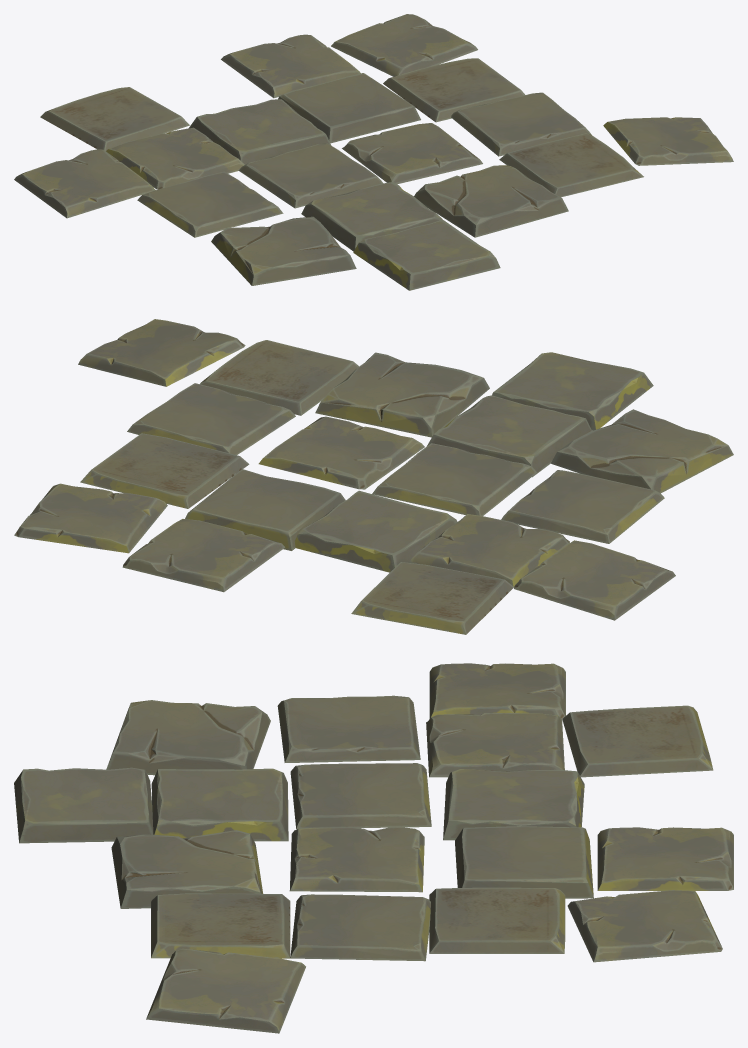
The model's file is Rock.fbx.
The picture shows the model from 3 angles, top to bottom: view 1: azimuth 30°, elevation 25°; view 2: azimuth 150°, elevation 25°; view 3: azimuth 270°, elevation 25°; orthographic projection. The views are drawn at different scales.
Visible parts, largest first — view 1: raisedSlab3, raisedSlab3__1_, raisedSlab4__2_, raisedSlab5, raisedSlab1__5_, raisedSlab2__1_, raisedSlab6__1_, raisedSlab6__2_, raisedSlab4, raisedSlab2, raisedSlab1, raisedSlab1__1_ (+6 smaller); view 2: raisedSlab3, raisedSlab3__1_, raisedSlab4, raisedSlab6__1_, raisedSlab1__5_, raisedSlab6, raisedSlab2, raisedSlab2__1_, raisedSlab1, raisedSlab1__4_, raisedSlab4__2_, raisedSlab1__1_ (+6 smaller); view 3: raisedSlab1__3_, raisedSlab4__2_, raisedSlab3__1_, raisedSlab4__1_, raisedSlab3, raisedSlab6__1_, raisedSlab6, raisedSlab2__1_, raisedSlab2__2_, raisedSlab2, raisedSlab1__4_, raisedSlab5 (+6 smaller).
Boxes of the visible parts, bbox=[...] form: raisedSlab3: bbox=[414, 165, 568, 237]; raisedSlab3__1_: bbox=[211, 216, 356, 285]; raisedSlab4__2_: bbox=[353, 220, 500, 290]; raisedSlab5: bbox=[278, 73, 420, 143]; raisedSlab1__5_: bbox=[14, 149, 155, 218]; raisedSlab2__1_: bbox=[137, 171, 283, 237]; raisedSlab6__1_: bbox=[40, 87, 189, 150]; raisedSlab6__2_: bbox=[499, 133, 643, 197]; raisedSlab4: bbox=[189, 99, 331, 164]; raisedSlab2: bbox=[238, 143, 382, 208]; raisedSlab1: bbox=[342, 123, 482, 184]; raisedSlab1__1_: bbox=[331, 14, 477, 76]; raisedSlab3: bbox=[315, 352, 489, 437]; raisedSlab3__1_: bbox=[551, 409, 733, 493]; raisedSlab4: bbox=[294, 490, 457, 572]; raisedSlab6__1_: bbox=[351, 562, 513, 634]; raisedSlab1__5_: bbox=[514, 540, 675, 620]; raisedSlab6: bbox=[80, 433, 249, 508]; raisedSlab2: bbox=[372, 443, 536, 515]; raisedSlab2__1_: bbox=[501, 470, 664, 543]; raisedSlab1: bbox=[258, 416, 424, 489]; raisedSlab1__4_: bbox=[122, 519, 284, 592]; raisedSlab4__2_: bbox=[492, 352, 653, 430]; raisedSlab1__1_: bbox=[14, 483, 167, 553]; raisedSlab1__3_: bbox=[146, 948, 305, 1033]; raisedSlab4__2_: bbox=[14, 767, 153, 843]; raisedSlab3__1_: bbox=[106, 700, 270, 775]; raisedSlab4__1_: bbox=[151, 768, 288, 841]; raisedSlab3: bbox=[111, 830, 263, 908]; raisedSlab6__1_: bbox=[562, 705, 713, 777]; raisedSlab6: bbox=[429, 887, 565, 953]; raisedSlab2__1_: bbox=[277, 695, 420, 762]; raisedSlab2__2_: bbox=[290, 894, 430, 961]; raisedSlab2: bbox=[290, 763, 431, 829]; raisedSlab1__4_: bbox=[597, 827, 733, 890]; raisedSlab5: bbox=[455, 826, 593, 898].
Bounding box in the file's own units: 2520 × 77.59 × 2125.
